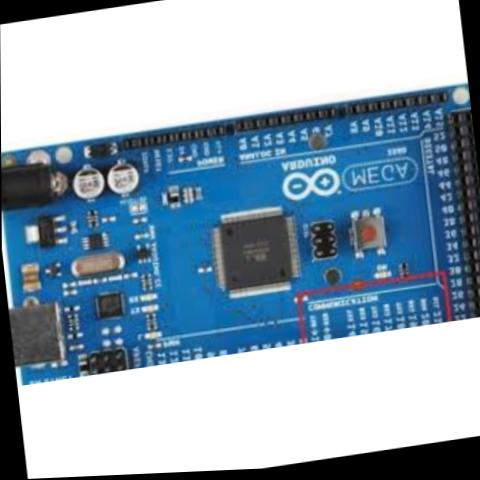Arduino-Mega: (1, 83, 480, 387)
